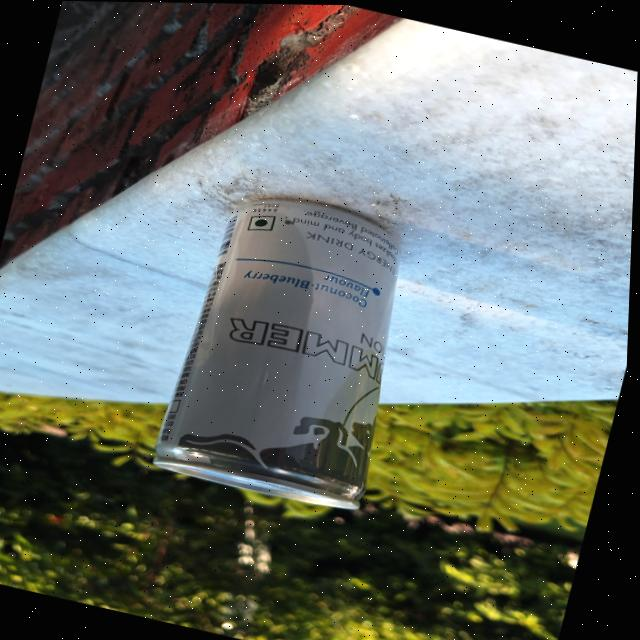Redbull Summer Edition: (149, 175, 440, 523)
